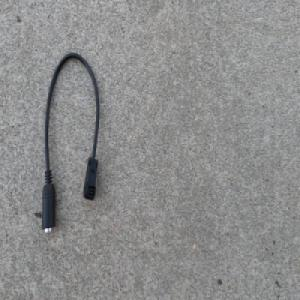Wire: (40, 50, 100, 241)
